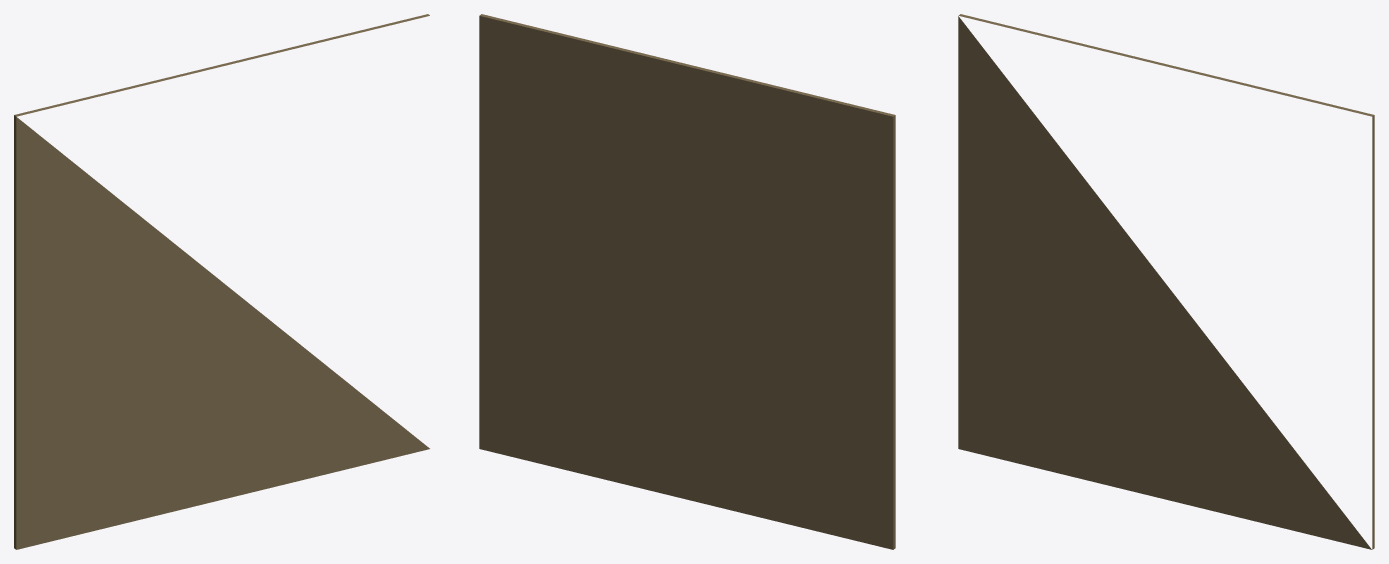
File: grass_meadow.glb
The picture shows the model from 3 angles, left to right: view 1: azimuth 30°, elevation 25°; view 2: azimuth 150°, elevation 25°; view 3: azimuth 330°, elevation 25°; orthographic projection.
Visible parts, largest first — view 1: geometry_0; view 2: geometry_0; view 3: geometry_0.
Part boxes in pixels (x1,y1,x2,y2): geometry_0: (14,14,429,549); geometry_0: (479,14,895,549); geometry_0: (958,14,1374,549).
Bounding box in the file's own units: 1 × 1 × 0.1599.
